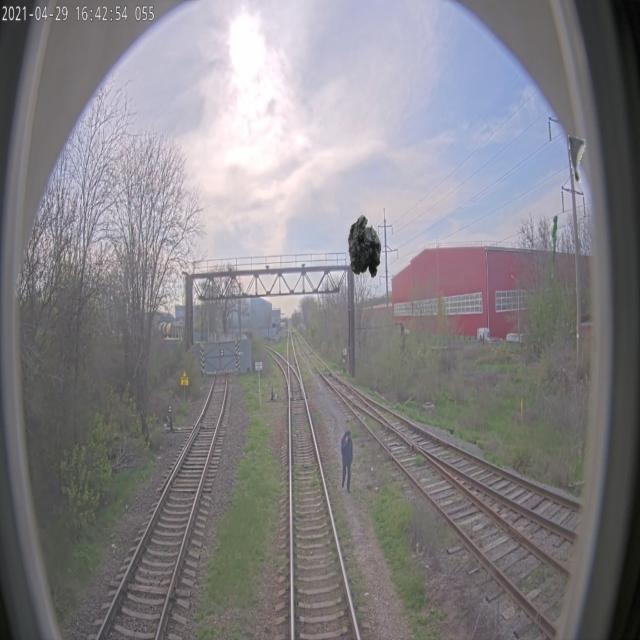floating object: (567, 120, 585, 184), (550, 214, 558, 278)
plastic bag: (348, 214, 382, 278)
